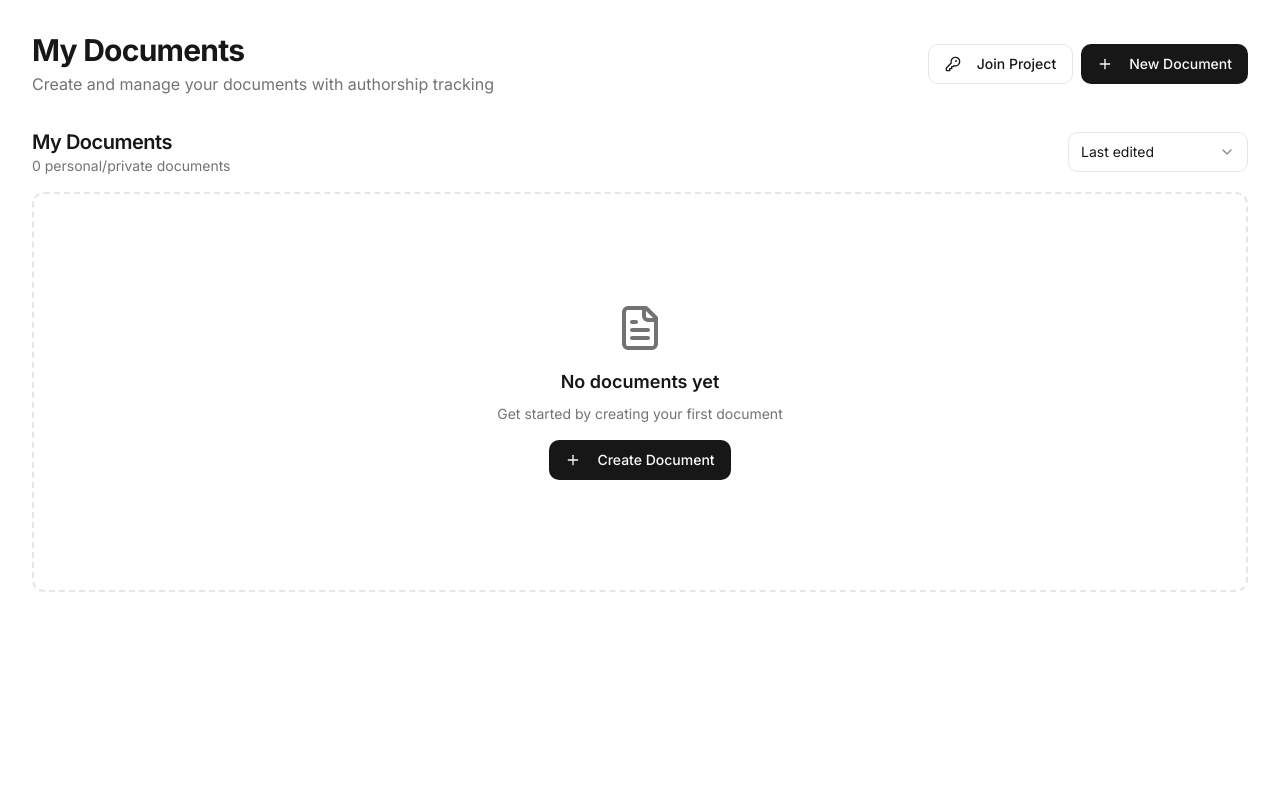
valid submission › submits on Enter key in title field
The image size is (1280, 800).
Click the button "New Document" at (1165, 64), box [1081,44,1248,84]
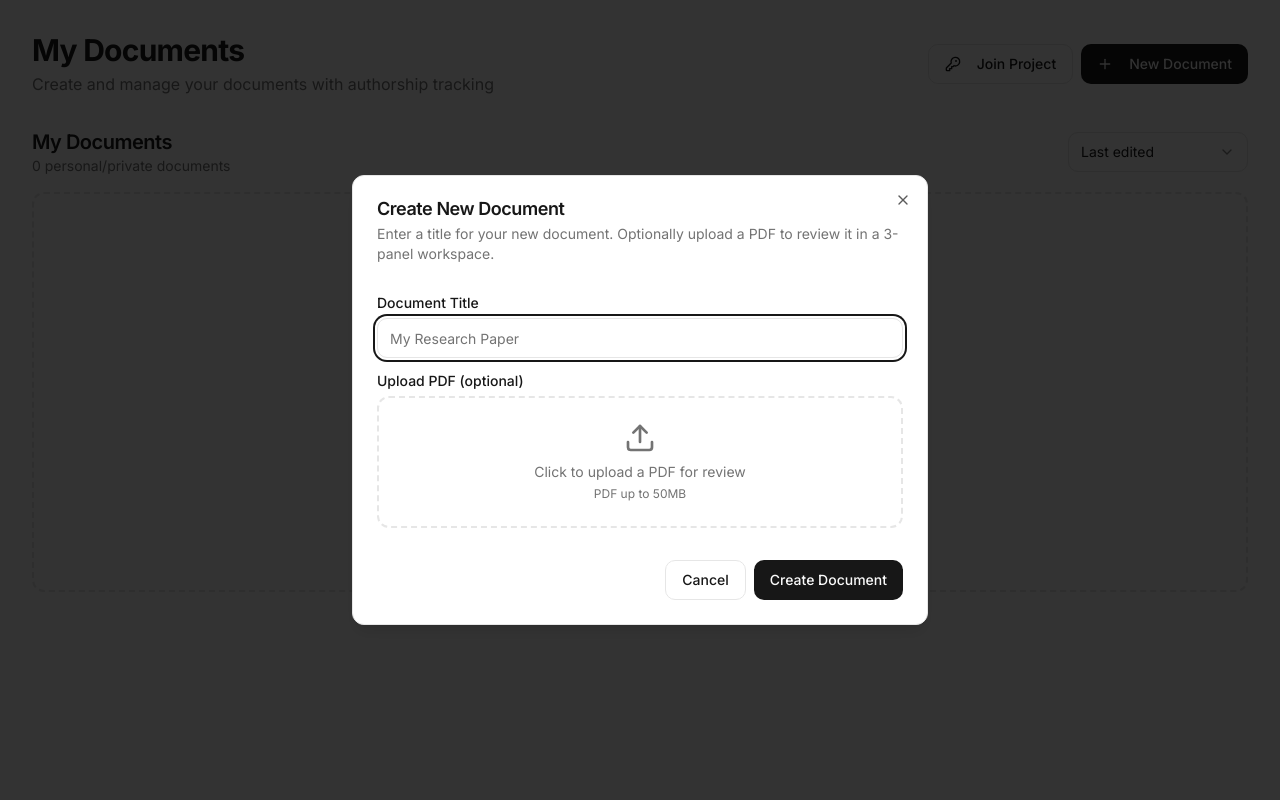
Expected: the heading "Create New Document" is shown, [377,198,564,219]
Type "Quick Enter" into the field with placeholder "My Research Paper" at (640, 338), box [377,318,903,358]
Then press Enter
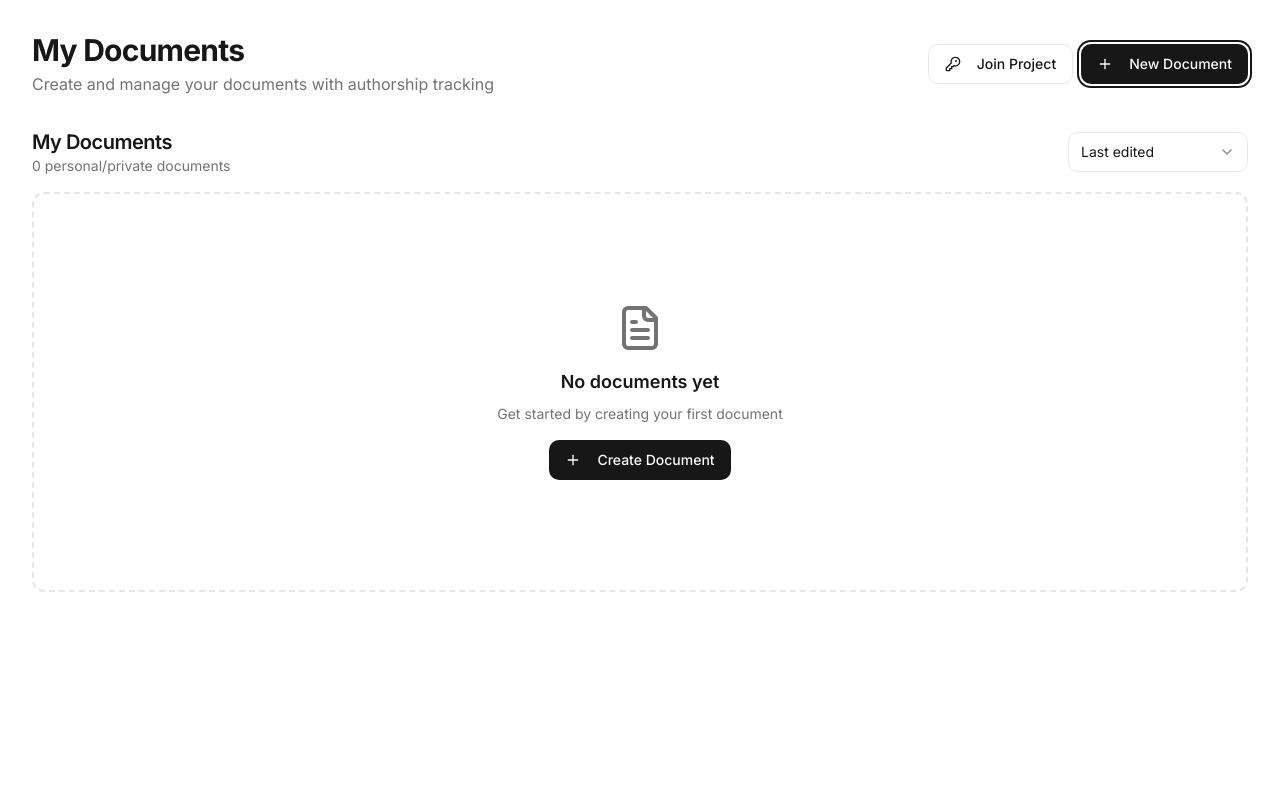
Expected: the heading "Create New Document" is gone
